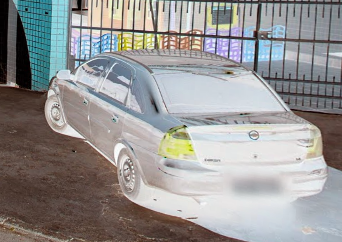car: (42, 49, 328, 213)
